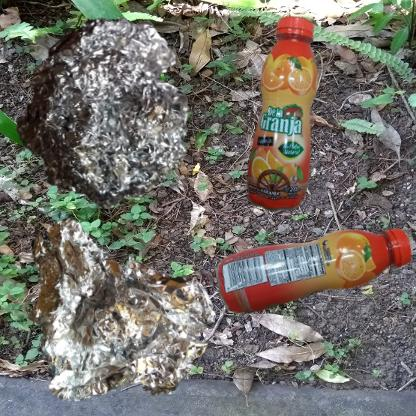aluminio: (10, 213, 229, 416), (10, 10, 197, 216)
botella: (213, 10, 396, 272), (213, 213, 416, 332)
